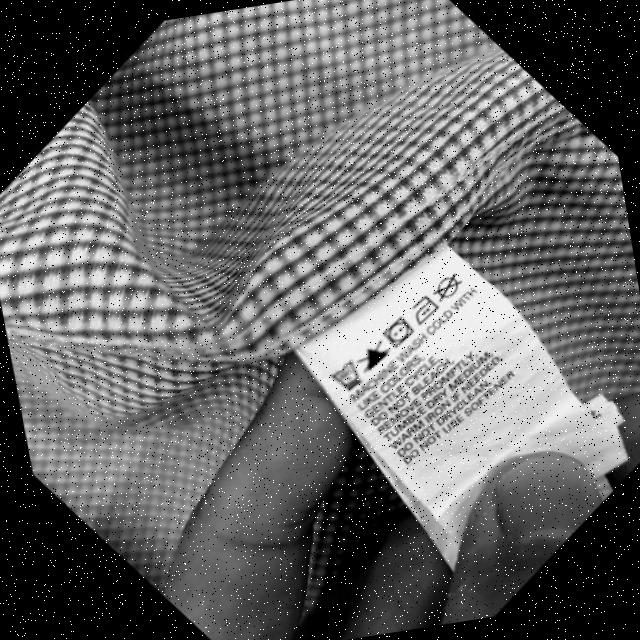ER_iron_medium_temp: (409, 294, 439, 324)
ER_no_bleach: (358, 343, 390, 371)
ER_no_dry_clean: (433, 274, 462, 300)
ER_tumble_dry_normal_heat: (382, 317, 414, 346)
